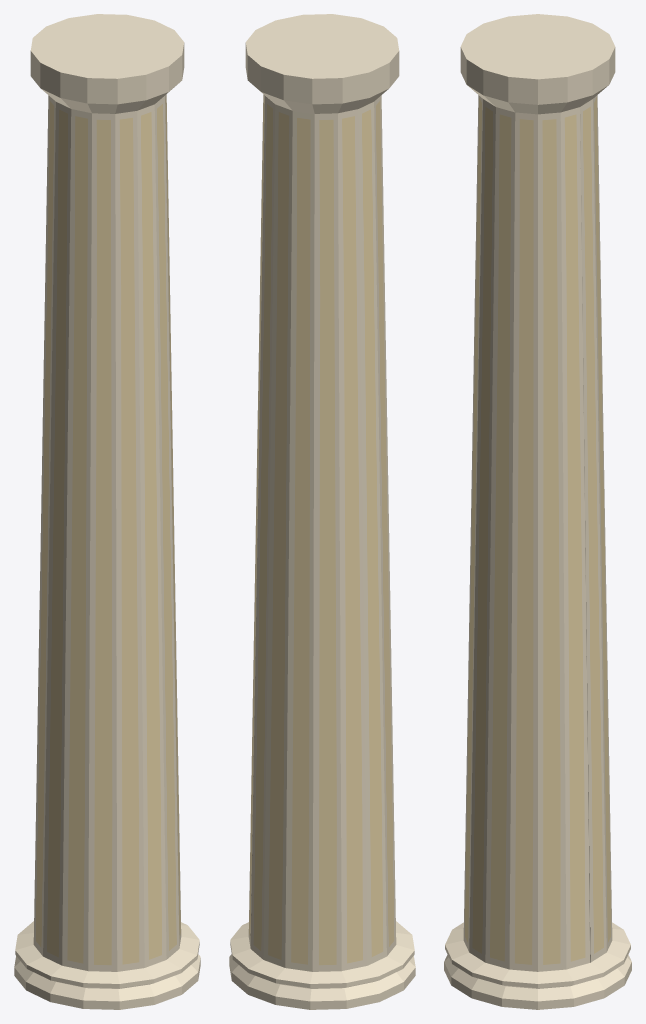
File: Pillar.fbx
3 views of the same model, side by side, from view 1: azimuth 30°, elevation 25°; view 2: azimuth 150°, elevation 25°; view 3: azimuth 270°, elevation 25° (orthographic).
Visible parts, largest first — view 1: Circle; view 2: Circle; view 3: Circle.
Boxes of the visible parts, <box> form: Circle: <box>14,14,200,1009</box>; Circle: <box>229,14,415,1009</box>; Circle: <box>444,14,631,1009</box>.
Size of the model in its own units: 200 by 1085 by 200.
